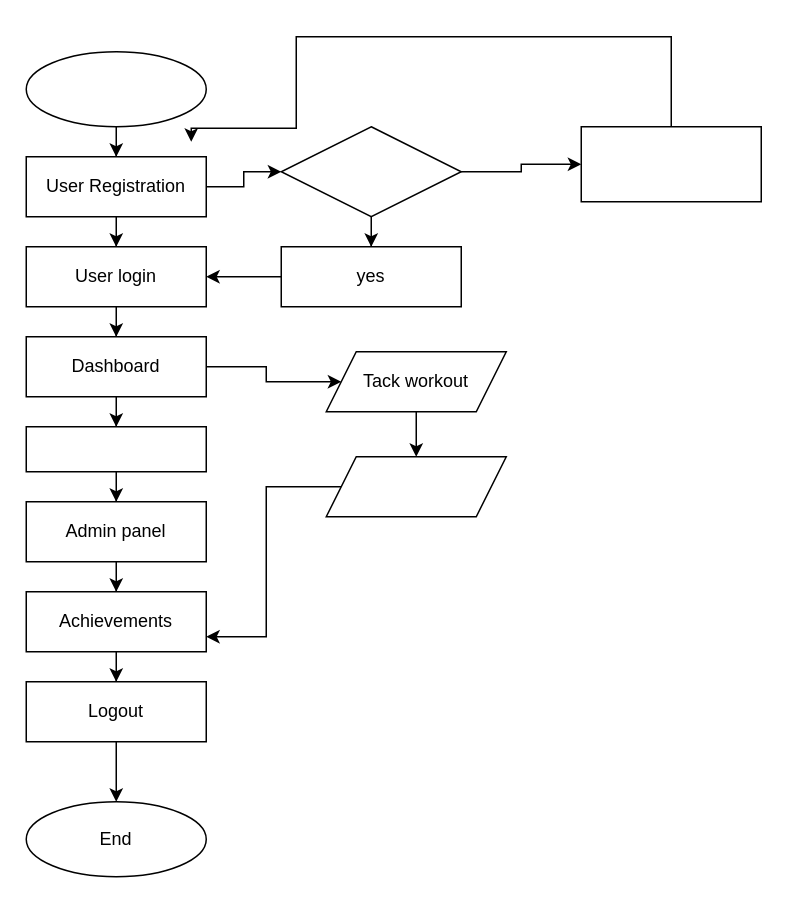
Image size: 788x903. Some labels were removed from this diagram. The shapes that lost their labels are listed below. From the top down, each one's centre as x and y in pixels, then its label:
the point at 115,88: start
the point at 370,171: Valid credentials?
the point at 670,163: No
the point at 115,448: View progress
the point at 415,486: Set goals
